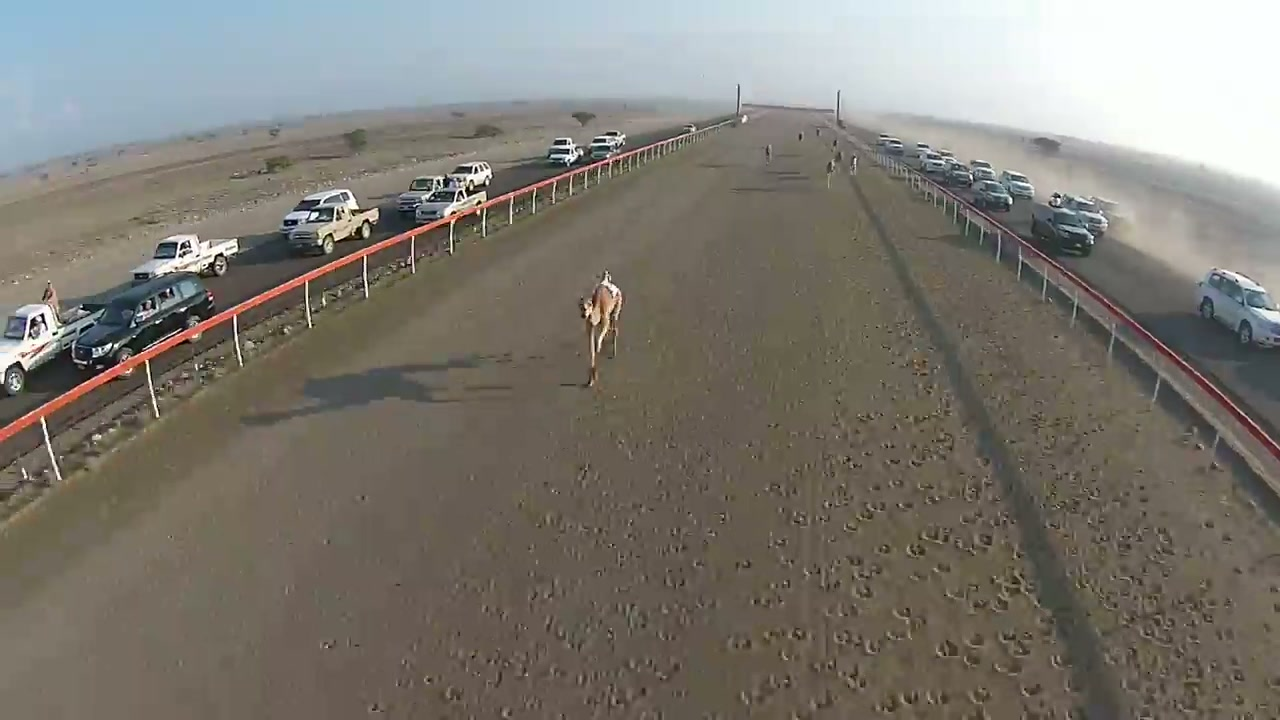animal_footprint: (751, 307, 1204, 711), (422, 440, 755, 718)
